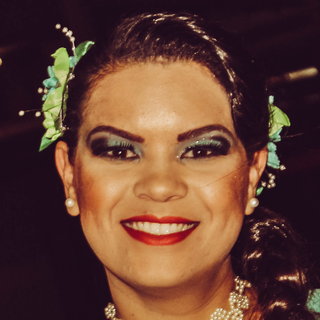eye: (172, 136, 235, 167), (87, 138, 146, 168)
